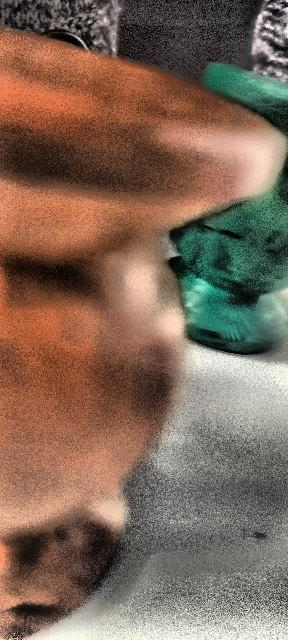green: (165, 62, 288, 352)
red: (0, 19, 288, 640)
